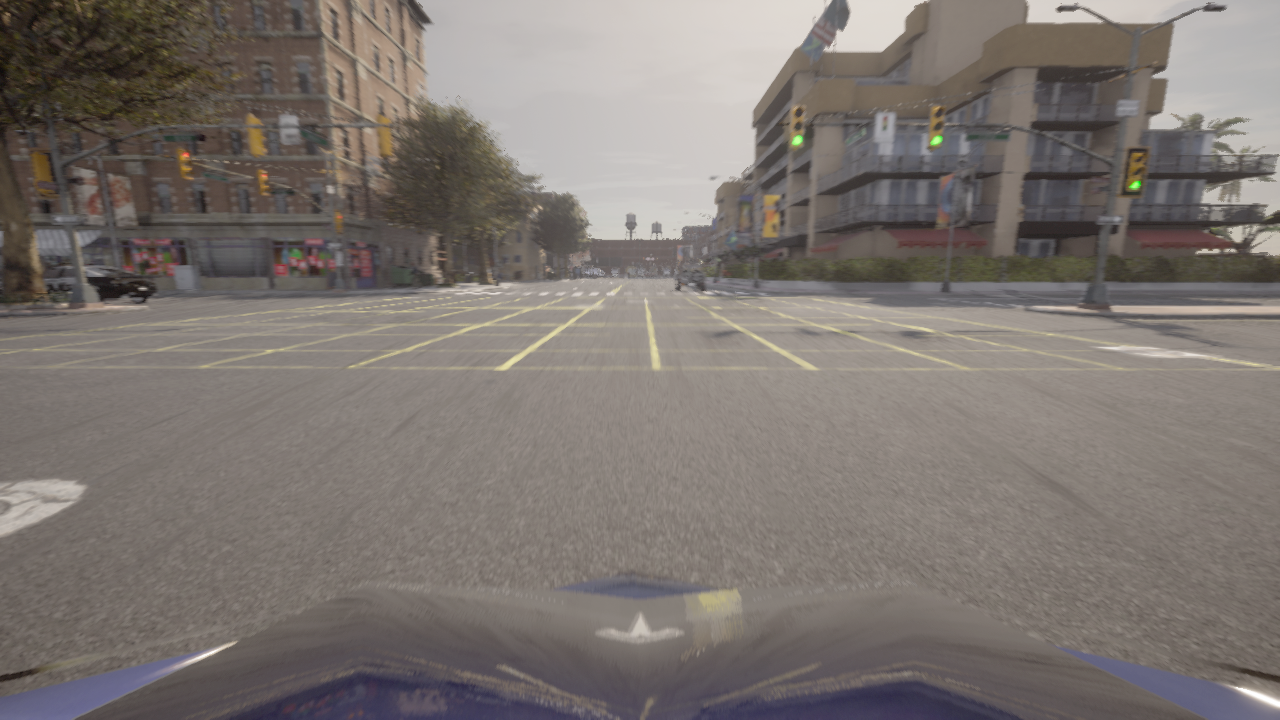cyclist: (0, 569, 1279, 719), (0, 262, 158, 303), (674, 264, 706, 291), (584, 269, 602, 276), (641, 272, 655, 276), (598, 269, 605, 276), (663, 269, 669, 276), (612, 269, 617, 276), (490, 273, 494, 280), (640, 269, 643, 274)
pedestrian: (409, 263, 421, 288), (47, 262, 54, 268)
